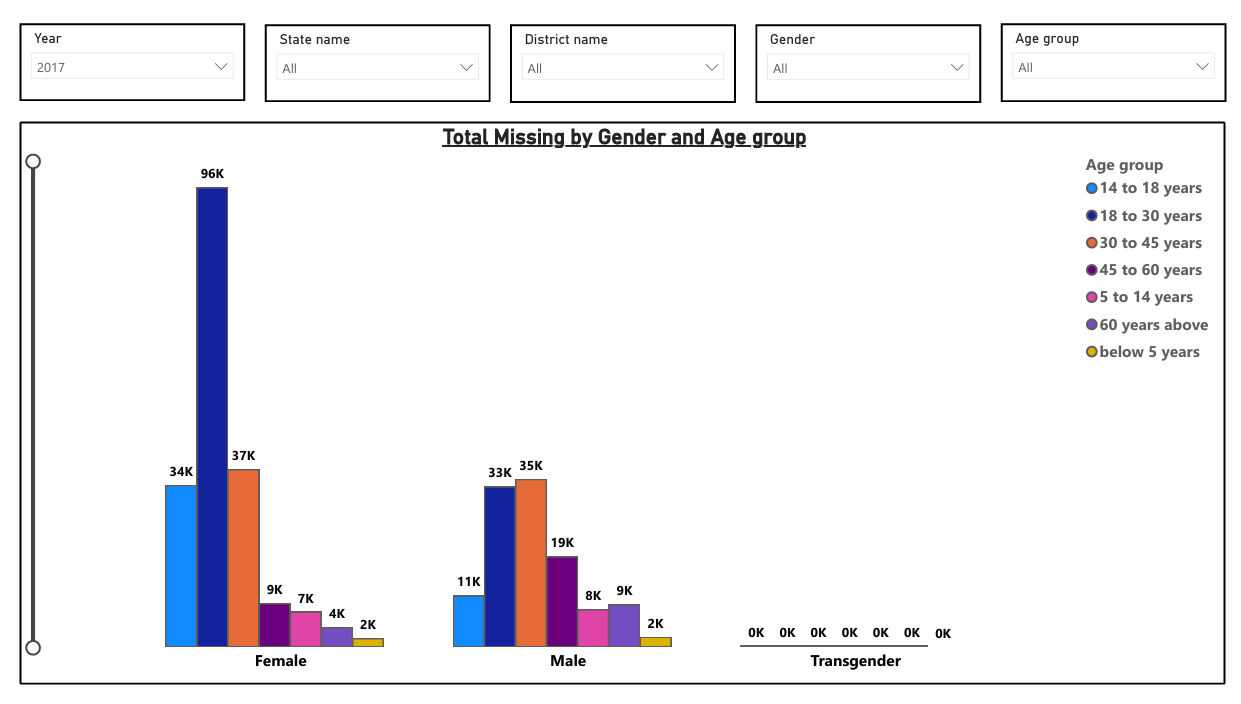

The dashboard page shown, as its layout file describes it:
{"tool":"powerbi","page":{"name":"Page 2","canvas":[1280,720],"ordinal":1},"visuals":[{"type":"slicer","fields":{"Values":["cleaned_missing_data.Year"]},"box":[20,20,232,80],"z":0},{"type":"slicer","fields":{"Values":["cleaned_missing_data.State name"]},"box":[272,20.6,232,80],"z":1000},{"type":"slicer","fields":{"Values":["cleaned_missing_data.District name"]},"box":[524,20.6,232,81],"z":2000},{"type":"slicer","fields":{"Values":["cleaned_missing_data.Gender"]},"box":[776,20.6,232,81],"z":3000},{"type":"slicer","fields":{"Values":["cleaned_missing_data.Age group"]},"box":[1028,20,232,81],"z":4000},{"type":"clusteredColumnChart","fields":{"Y":["cleaned_missing_data.Total Missing"],"Category":["cleaned_missing_data.Gender"],"Series":["cleaned_missing_data.Age group"]},"box":[19.7,121.2,1239.4,578.8],"z":5000}]}

Visuals, with their boxes in screenshot pixels (x1, y1, x2, y2), scaled from the page's 1280x720 canvas onto the 1241x704 screenshot:
slicer - cleaned_missing_data.Year: x1=19 y1=20 x2=244 y2=98
slicer - cleaned_missing_data.State name: x1=264 y1=20 x2=489 y2=98
slicer - cleaned_missing_data.District name: x1=508 y1=20 x2=733 y2=99
slicer - cleaned_missing_data.Gender: x1=752 y1=20 x2=977 y2=99
slicer - cleaned_missing_data.Age group: x1=997 y1=20 x2=1222 y2=99
clusteredColumnChart - cleaned_missing_data.Total Missing x cleaned_missing_data.Gender: x1=19 y1=119 x2=1221 y2=684
